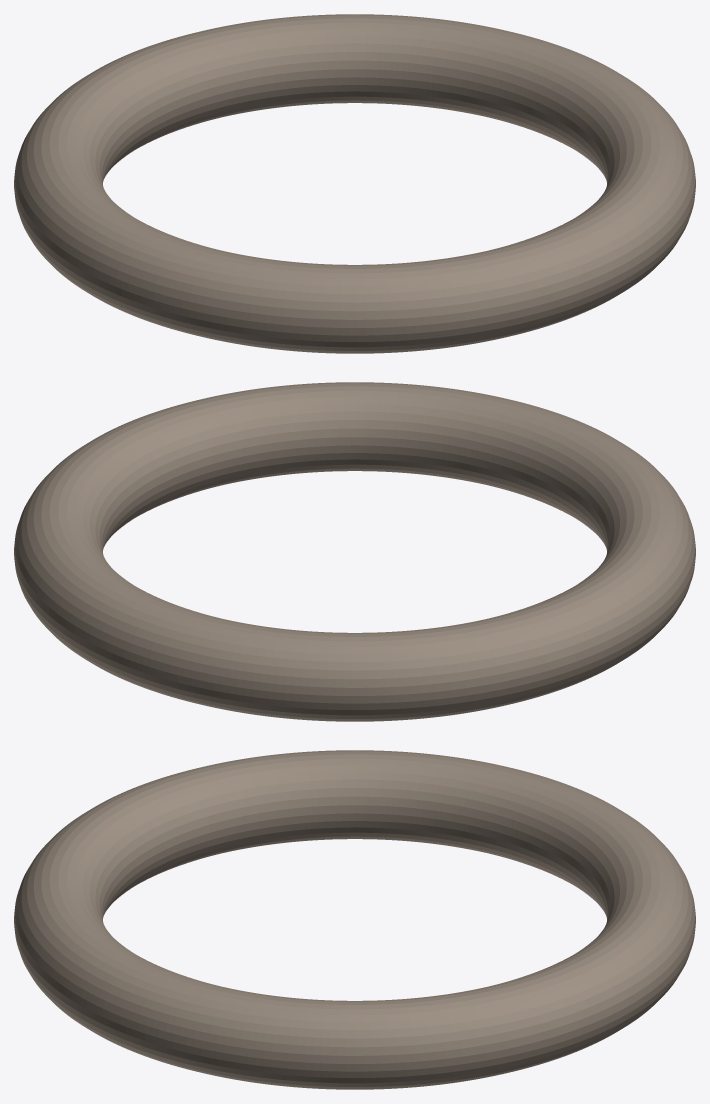
File: ring.obj
3 views of the same model, one above another, from view 1: azimuth 30°, elevation 25°; view 2: azimuth 150°, elevation 25°; view 3: azimuth 270°, elevation 25° (orthographic).
Bounding box in the file's own units: 9.2 × 1.2 × 9.2.
